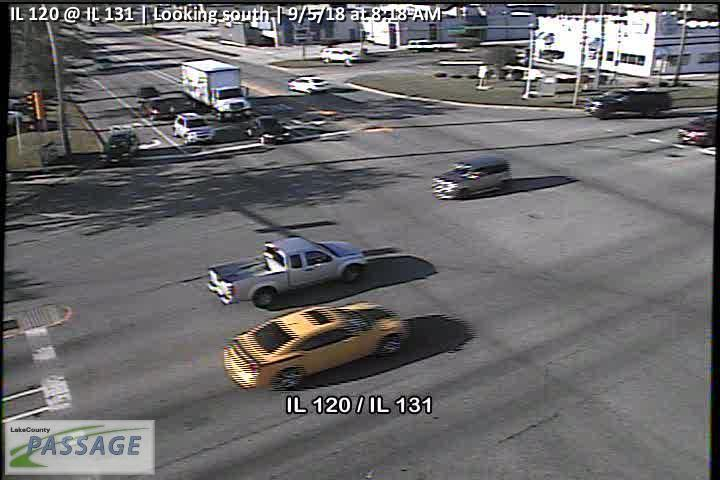SUV: (429, 156, 513, 200), (584, 83, 672, 119)
Sedan: (221, 300, 410, 392), (171, 110, 219, 145), (245, 112, 291, 147), (286, 74, 332, 96), (137, 99, 178, 120)
Truck: (203, 237, 370, 309), (180, 59, 254, 123)
